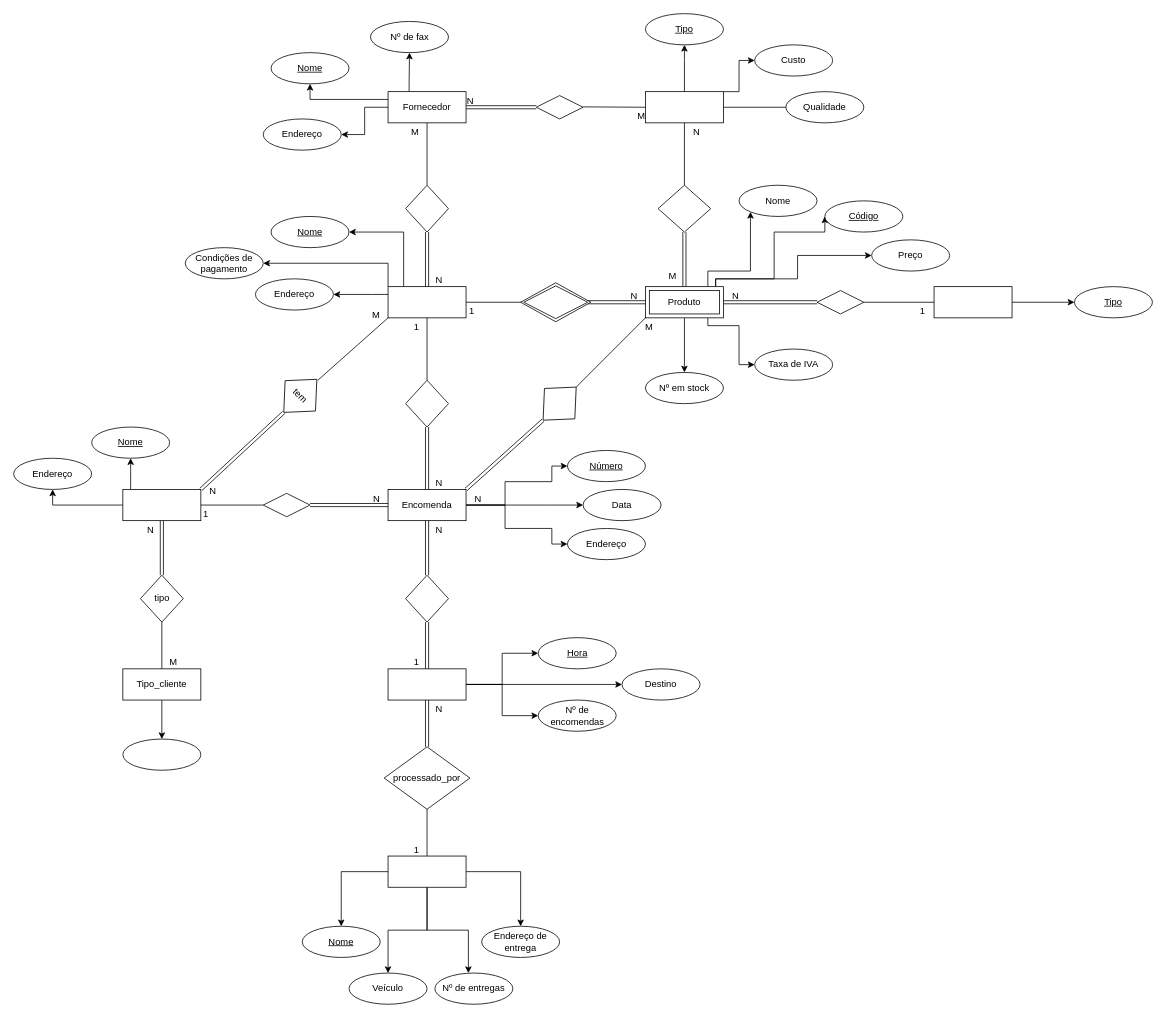
Image size: 1166x1018. Some labels were removed from this diagram. Here are the shapes that lost their labels. From the top down, the centre of each, then its label:
At (559,107): "adquire".
At (684,107): "Matéria Prima".
At (426,208): "fornece".
At (684,208): "faz_parte".
At (426,302): "Empresa".
At (555,302): "fabrica".
At (840,302): "pertence".
At (972,302): "Categoria".
At (426,403): "prepara".
At (559,403): "possui".
At (161,505): "Cliente".
At (286,505): "faz".
At (426,598): "precisa".
At (426,684): "Envio".
At (161,754): "Designação".
At (426,871): "Transportadora".
